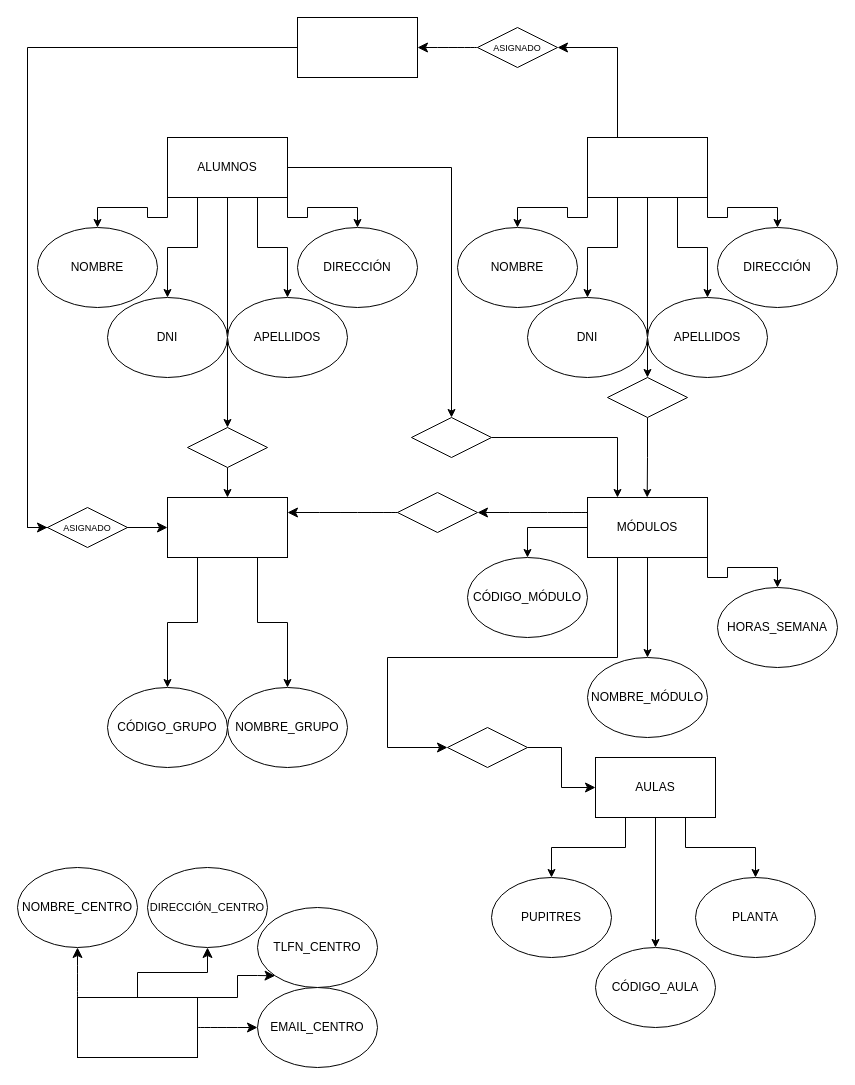
Some shapes in this 855 by 1085 pixel diagram are drawn without their labels. Each missing label, with the box of its shape:
ASIGNADO A: (396, 492, 478, 532)
CENTRO: (76, 996, 198, 1058)
GRUPOS: (166, 496, 288, 558)
IMPARTE: (606, 376, 688, 418)
MATRICULADO EN: (410, 416, 492, 458)
PERTENECE A: (186, 426, 268, 468)
PROFESOR: (586, 136, 708, 198)
SE IMPARTE EN: (446, 726, 528, 768)
TUTORES: (296, 16, 418, 78)
